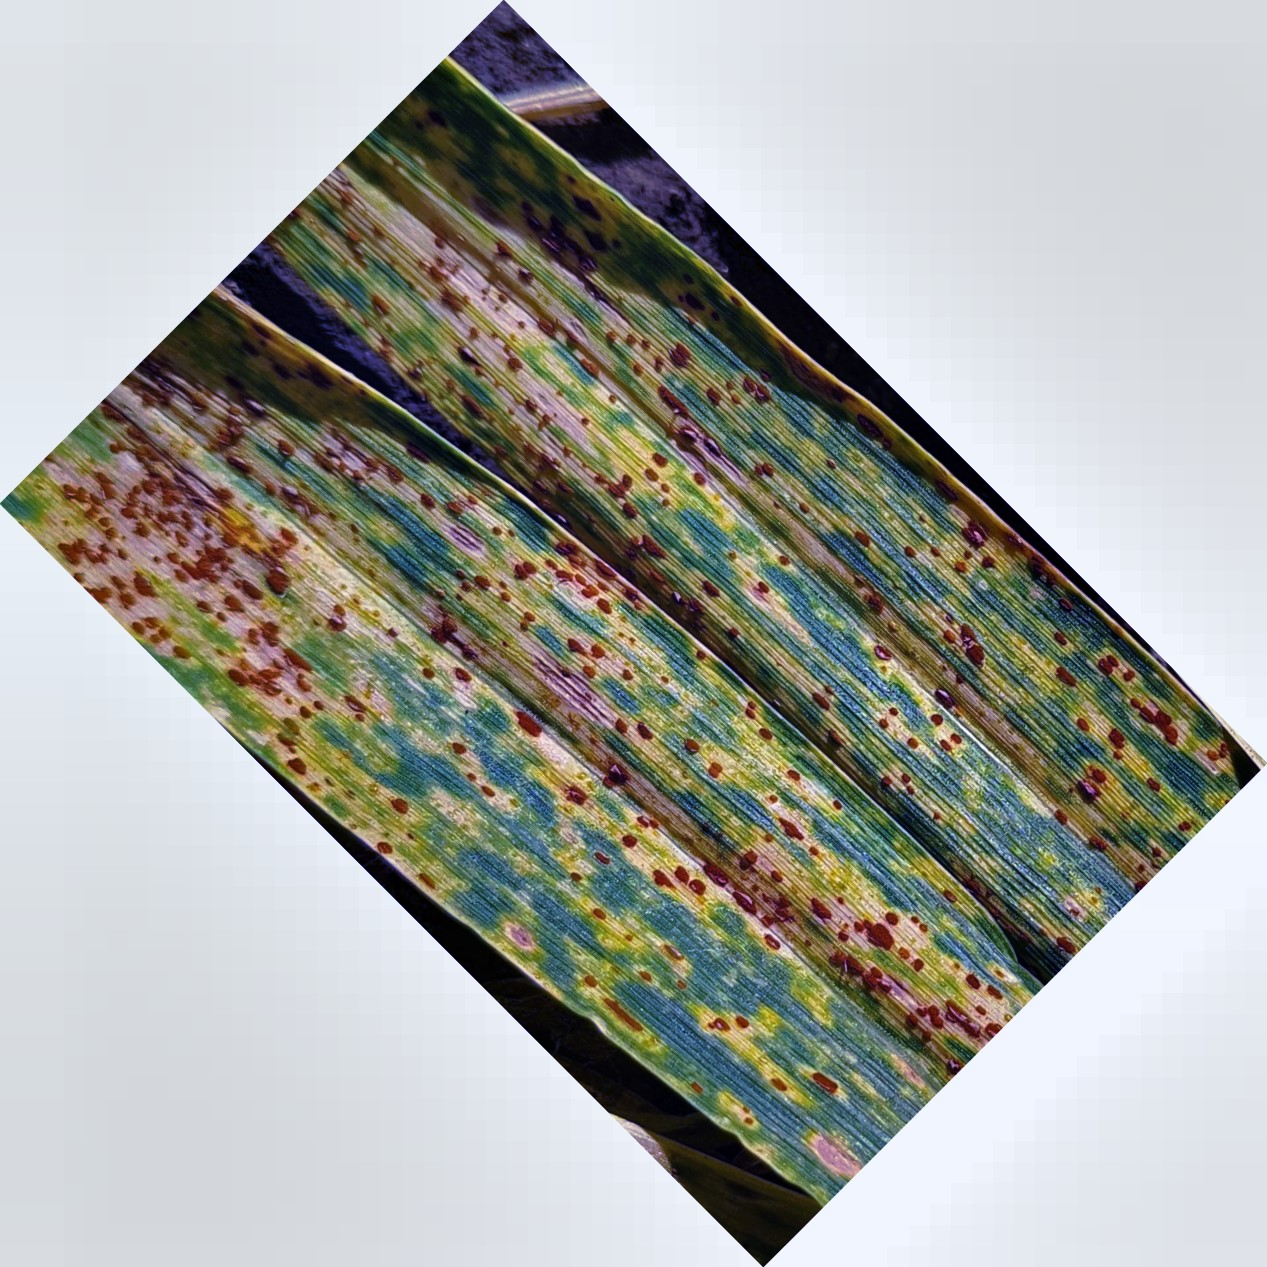Leaf Rust: (71, 314, 1078, 1087)
